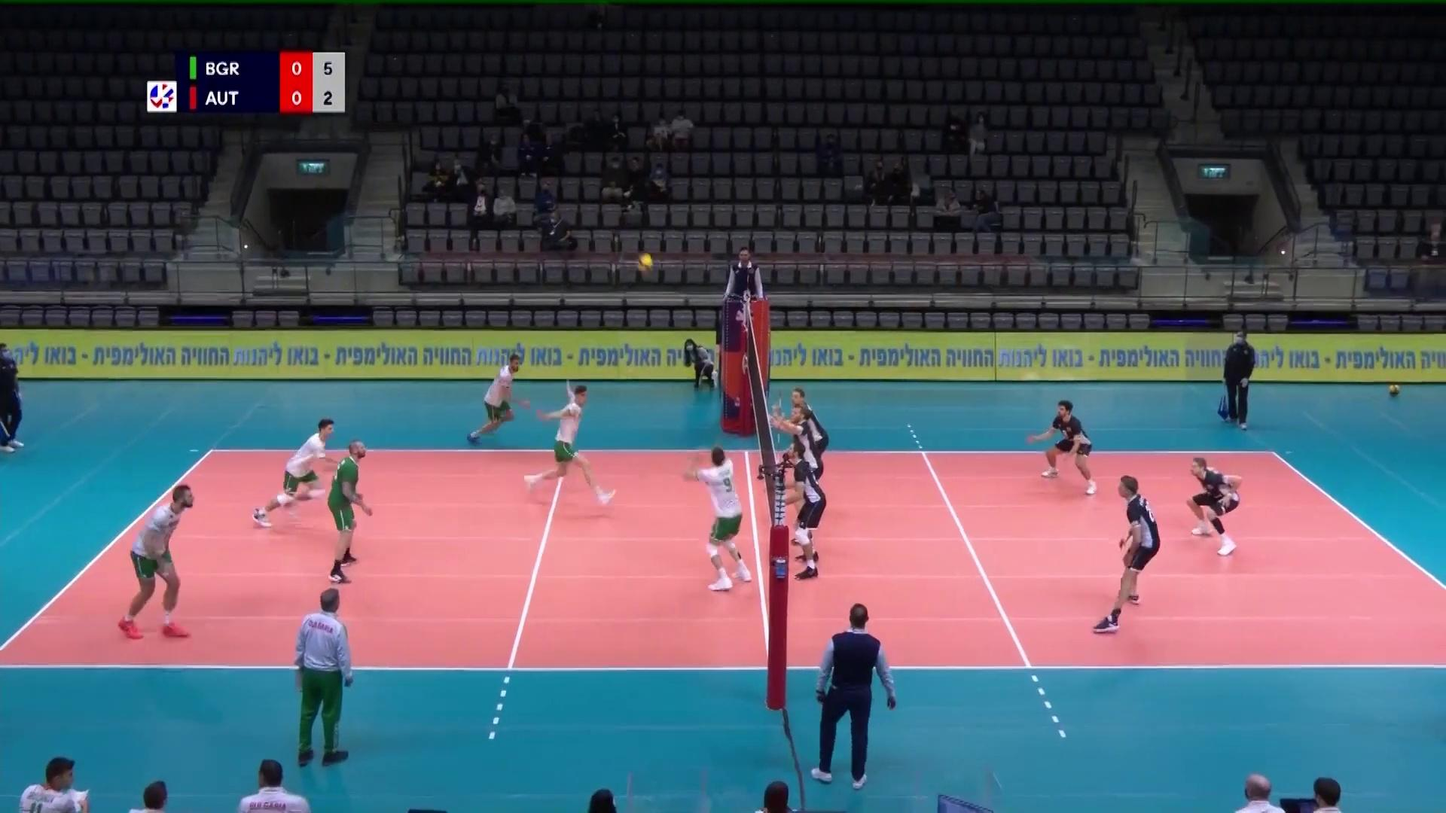ball: (637, 254, 653, 274)
